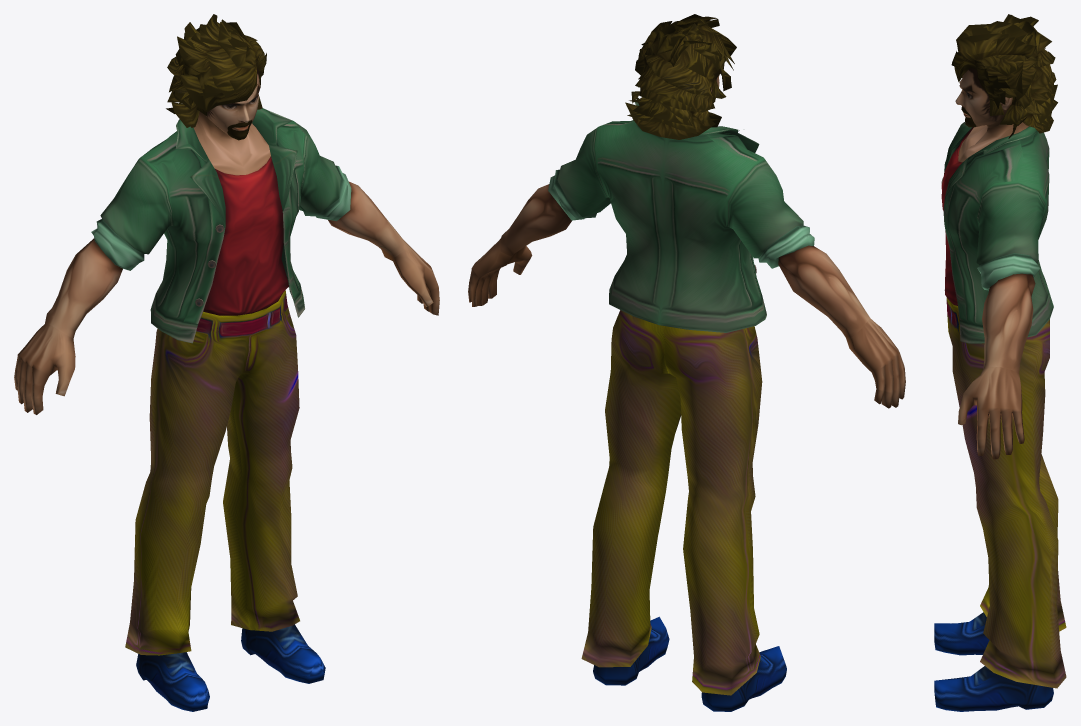
3 renders of one model, left to right at view 1: azimuth 30°, elevation 25°; view 2: azimuth 150°, elevation 25°; view 3: azimuth 270°, elevation 25°, orthographic. The views are drawn at different scales.
Parts seen in each view (by area): view 1: ch4; view 2: ch4; view 3: ch4.
Boxes of the visible parts, <box> form: ch4: <box>14,14,439,711</box>; ch4: <box>468,14,905,711</box>; ch4: <box>934,14,1066,711</box>.
Bounding box in the file's own units: 53.72 × 81.36 × 14.91.
Materials: 1 (1 with a texture image).
